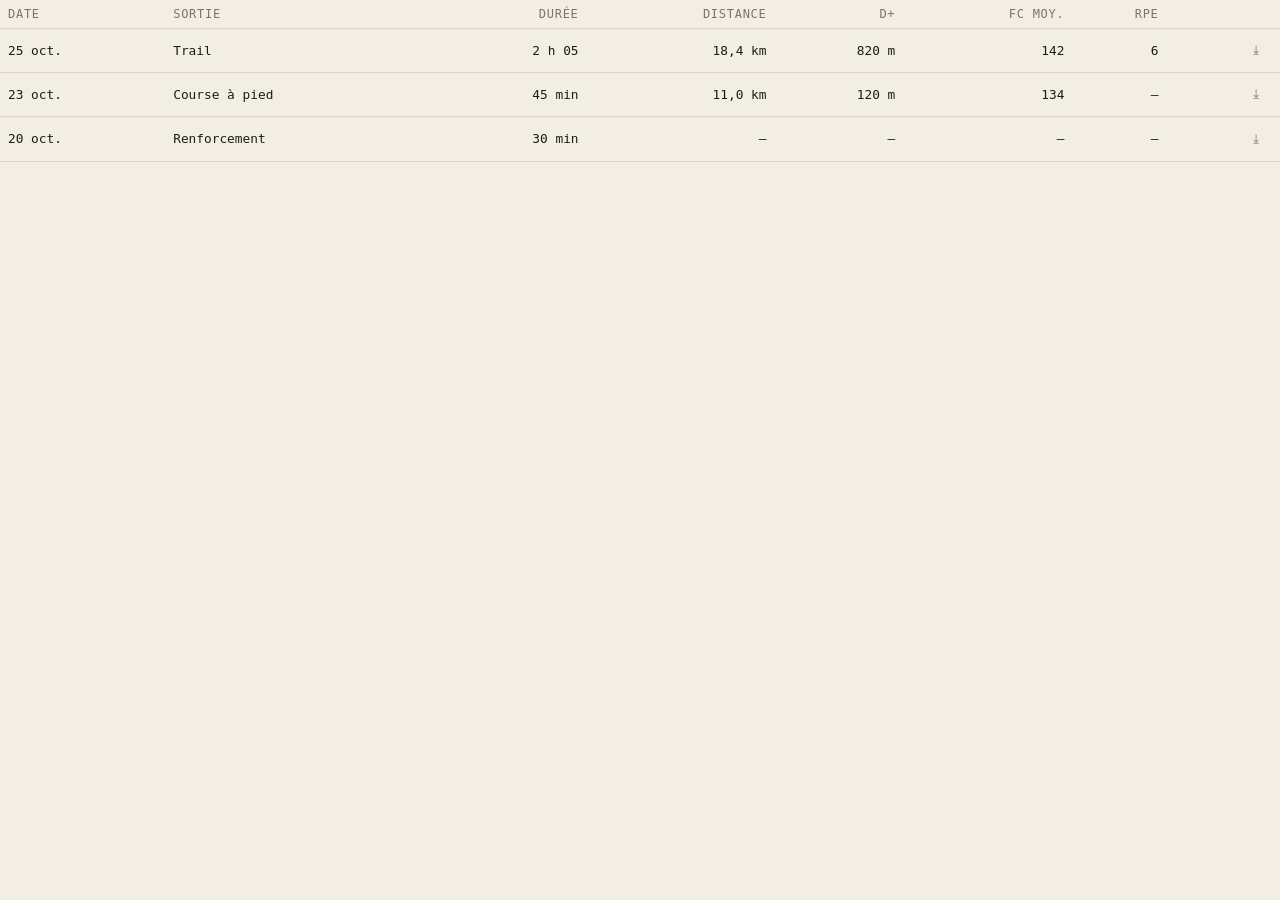
Test: Dernières sorties › un clic ouvre le détail de la séance (et Échap le ferme)
This screenshot has width=1280, height=900.
Click the button with aria-label "Détail :": (640, 95) [0,73,1279,117]
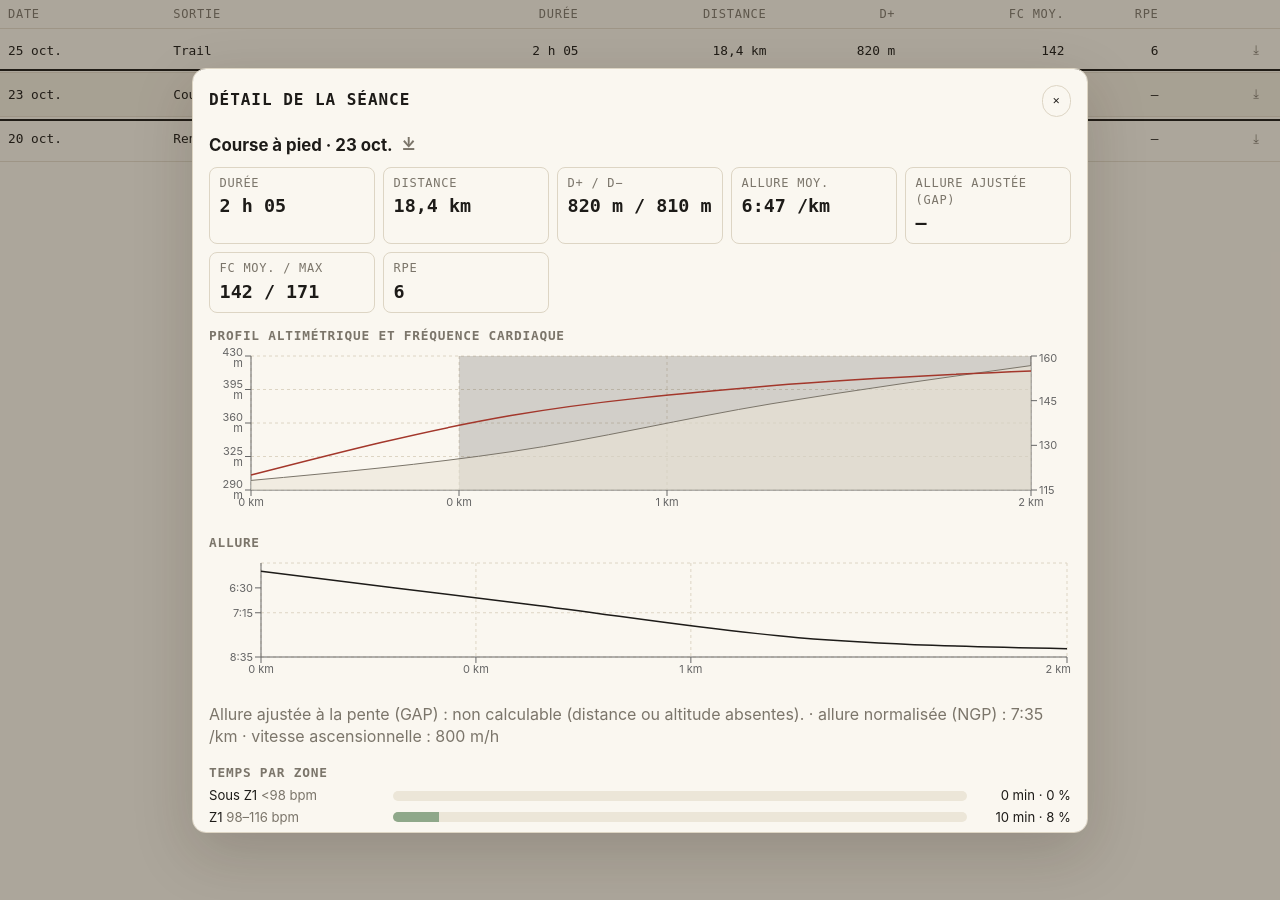
Check: the heading "Course à pied · 23 oct. ⤓" is shown, box [209,128,425,160]
Press Escape
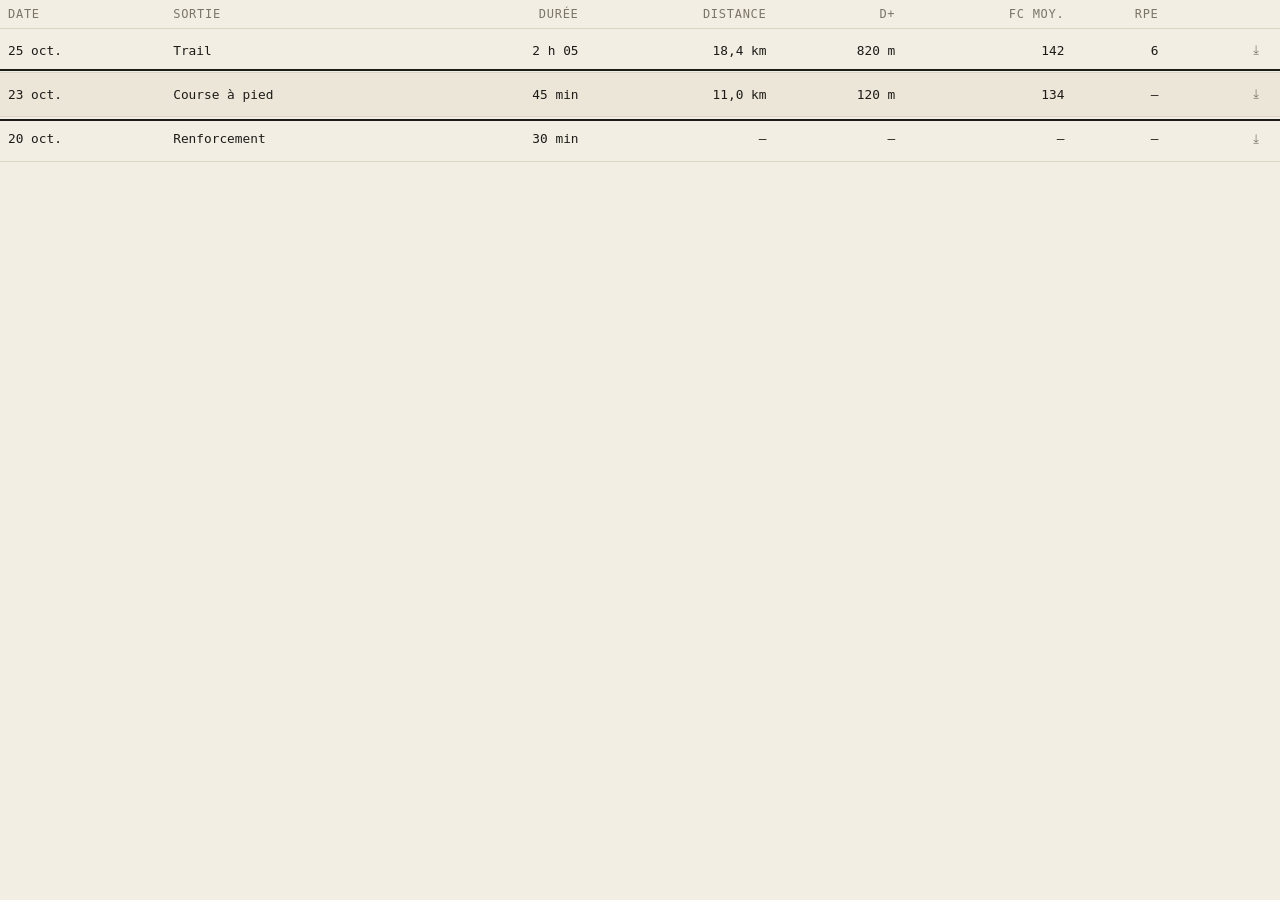
Check: the dialog is gone
